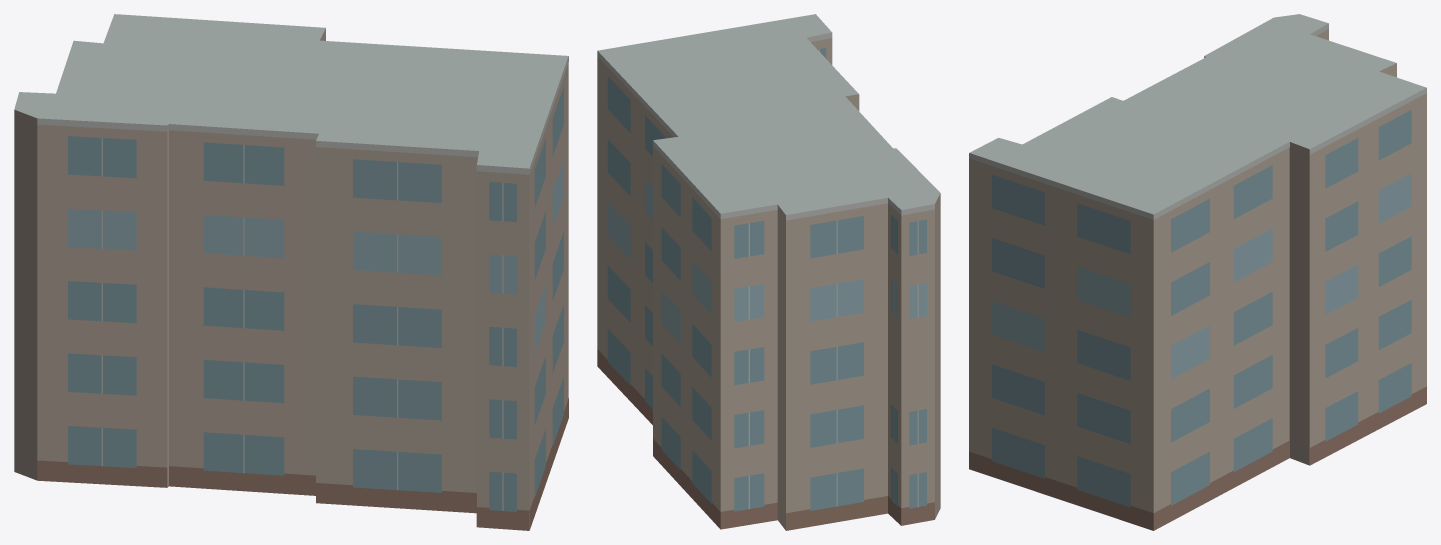
Rendered from survey-upis-32939798.glb.
3 renders of one model, left to right at view 1: azimuth 30°, elevation 25°; view 2: azimuth 150°, elevation 25°; view 3: azimuth 270°, elevation 25°, orthographic. The views are drawn at different scales.
Visible parts, largest first — view 1: survey-upis-32939798.tmp; view 2: survey-upis-32939798.tmp; view 3: survey-upis-32939798.tmp.
Part boxes in pixels (x1,y1,x2,y2): survey-upis-32939798.tmp: [14, 14, 568, 530]; survey-upis-32939798.tmp: [597, 14, 940, 530]; survey-upis-32939798.tmp: [969, 14, 1426, 530].
Bounding box in the file's own units: 19.32 × 14.2 × 18.63.
